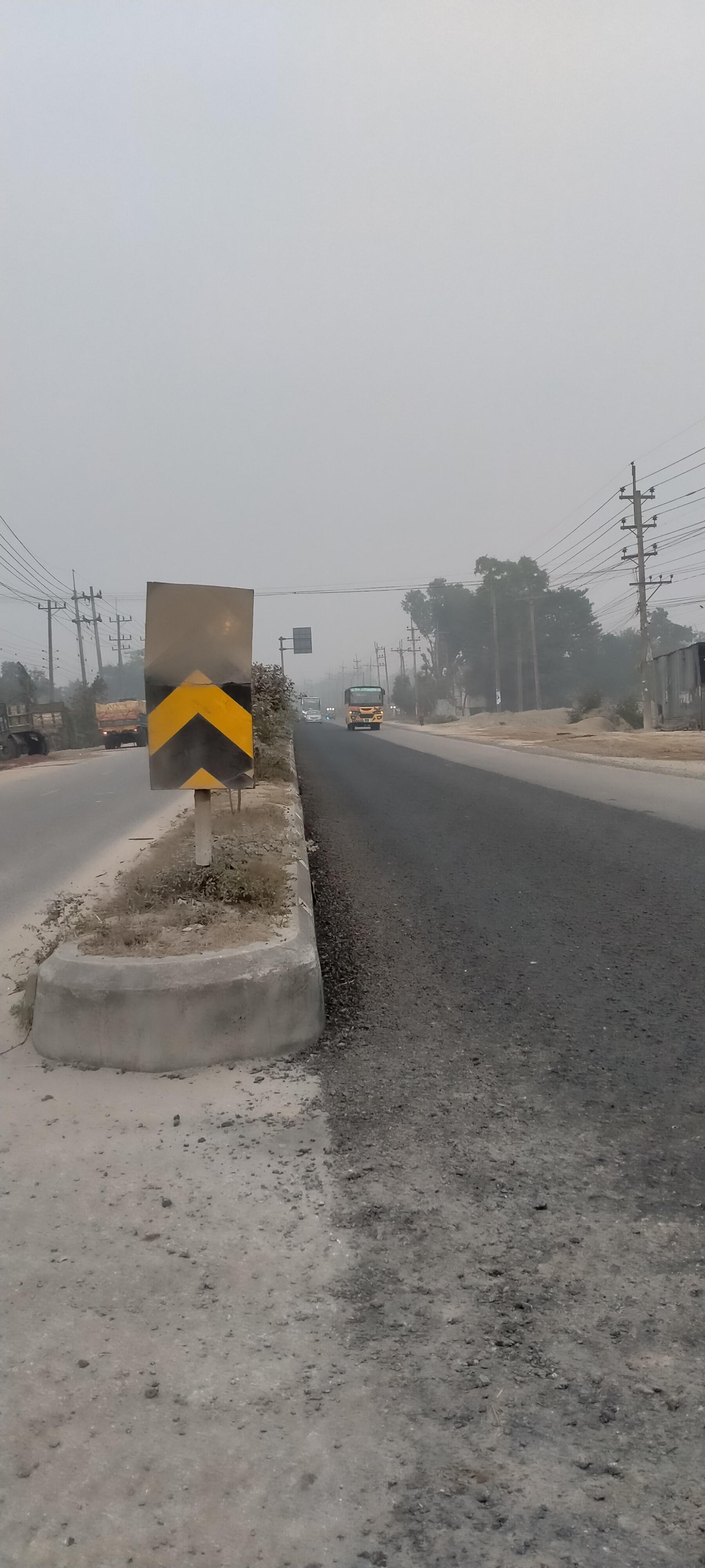Bus: (336, 678, 400, 733), (294, 681, 334, 731)
Truck: (76, 676, 147, 759)
